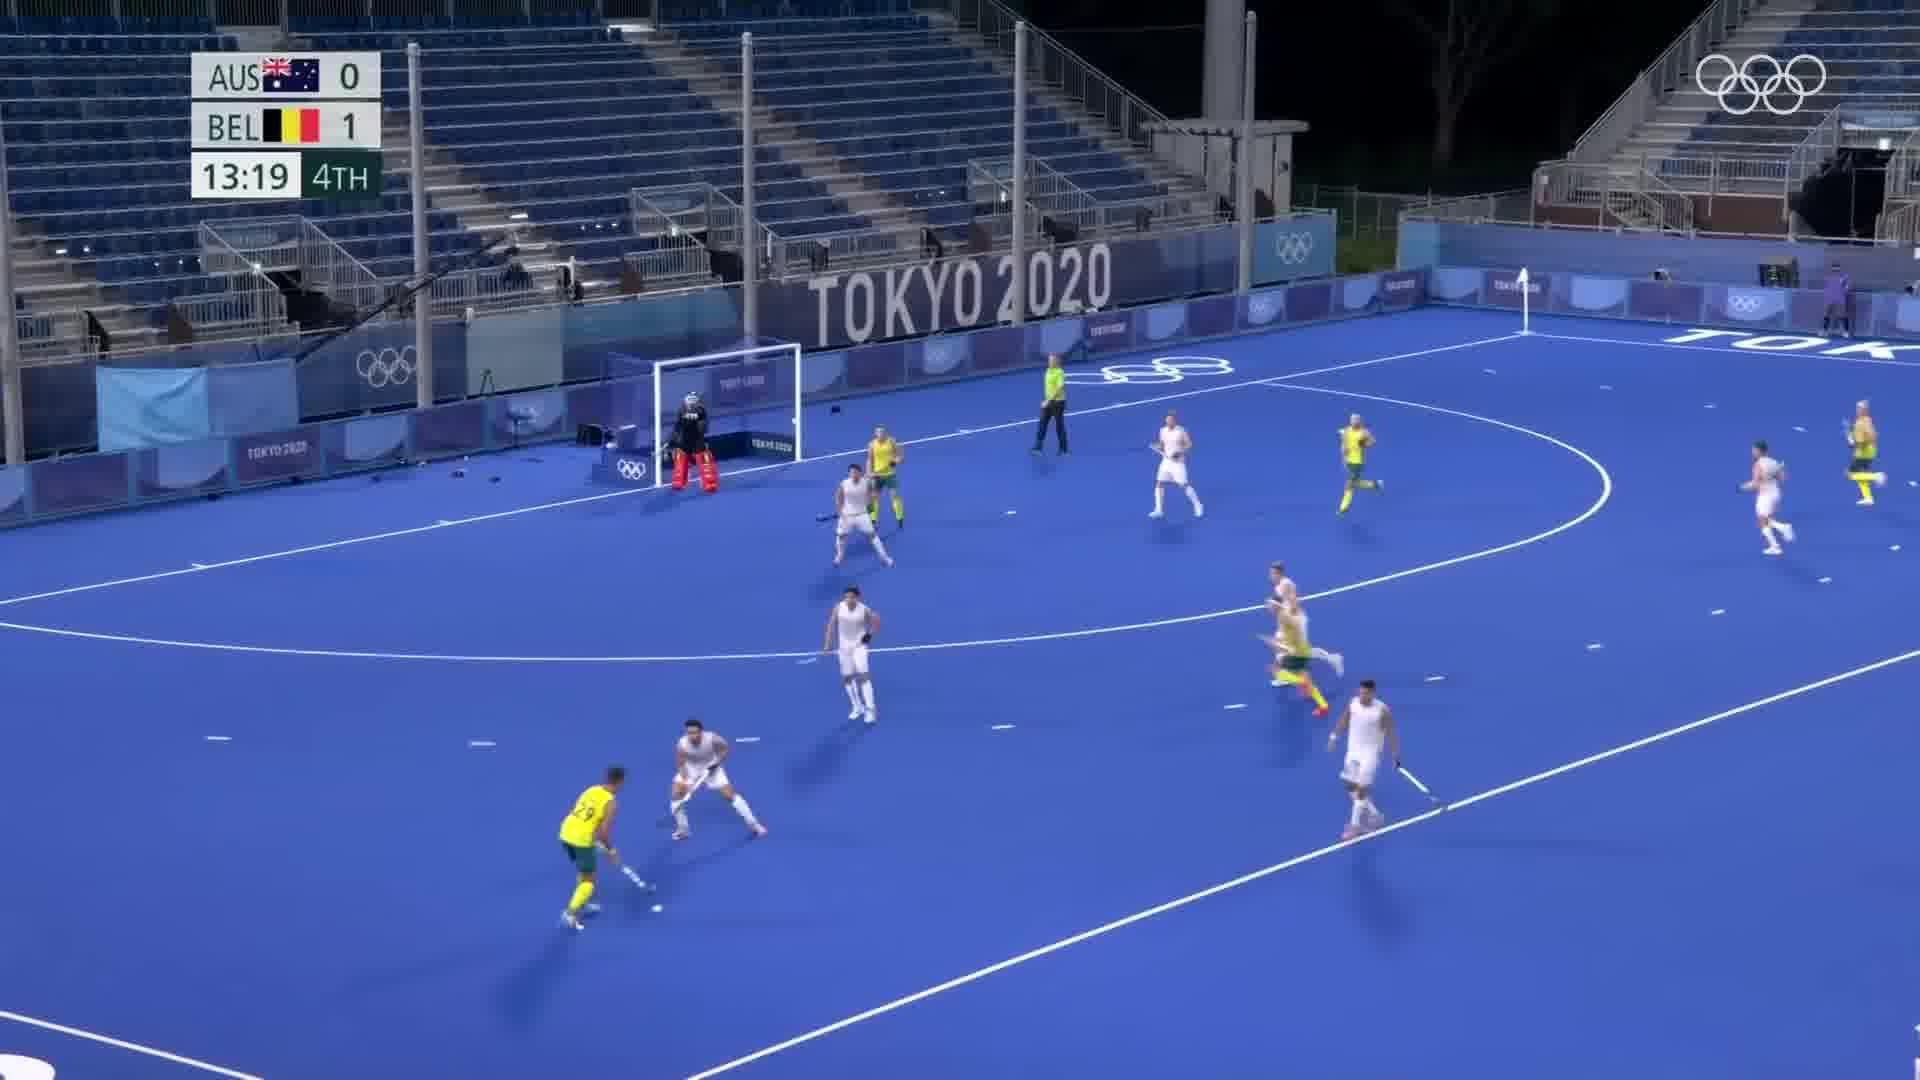ball: (647, 899, 670, 919)
